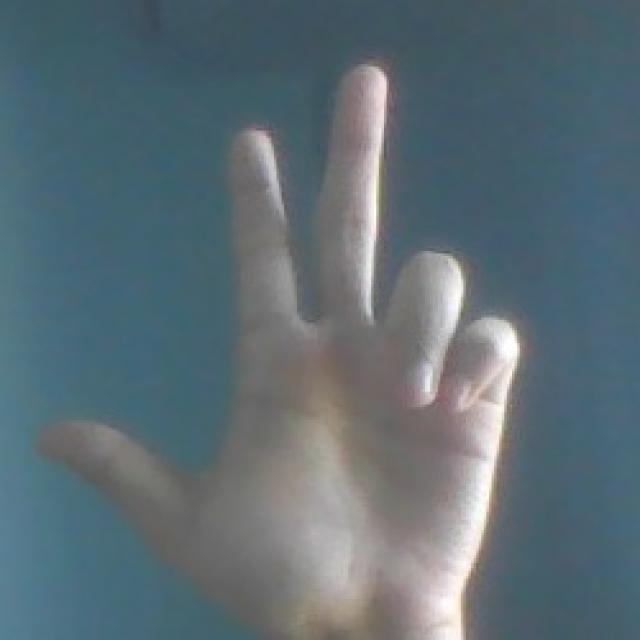Numeric-3: (39, 64, 522, 638)
